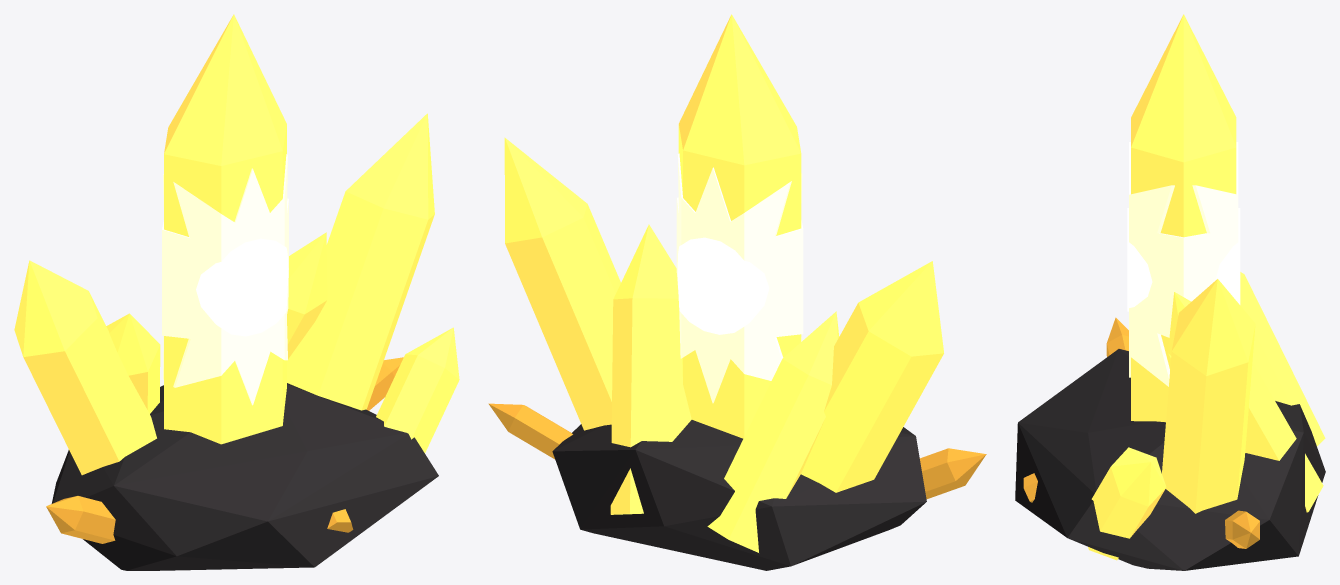
The model's file is sol_crystalline.glb.
3 renders of one model, left to right at view 1: azimuth 30°, elevation 25°; view 2: azimuth 150°, elevation 25°; view 3: azimuth 270°, elevation 25°, orthographic.
Parts seen in each view (by area): view 1: sol_crystalline; view 2: sol_crystalline; view 3: sol_crystalline.
Part boxes in pixels (box(x1,y1,x2,y2)): sol_crystalline: box(14, 14, 459, 570); sol_crystalline: box(488, 14, 986, 570); sol_crystalline: box(1015, 14, 1325, 570).
Bounding box in the file's own units: 0.2545 × 0.28 × 0.1583.
